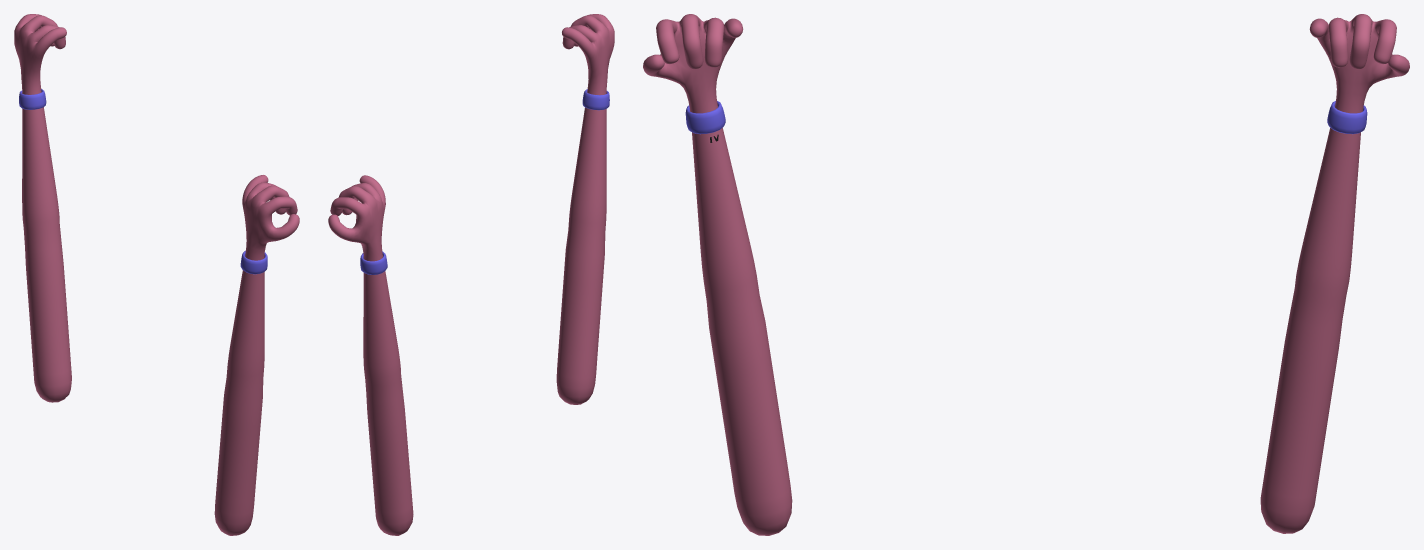
Rendered from Hands_.fbx.
3 views of the same model, side by side, from view 1: azimuth 30°, elevation 25°; view 2: azimuth 150°, elevation 25°; view 3: azimuth 270°, elevation 25° (orthographic). The views are drawn at different scales.
Visible parts, largest first — view 1: hand_R, hand_L; view 2: hand_L, hand_R; view 3: hand_L, hand_R.
Boxes of the visible parts, box(x1,y1,x2,y2) form: hand_R: box(14, 14, 71, 402); hand_L: box(214, 175, 299, 535); hand_L: box(556, 14, 614, 404); hand_R: box(328, 175, 413, 535); hand_L: box(643, 14, 792, 535); hand_R: box(1260, 14, 1409, 533).
Size of the model in its own units: 318 by 2326 by 3072.
